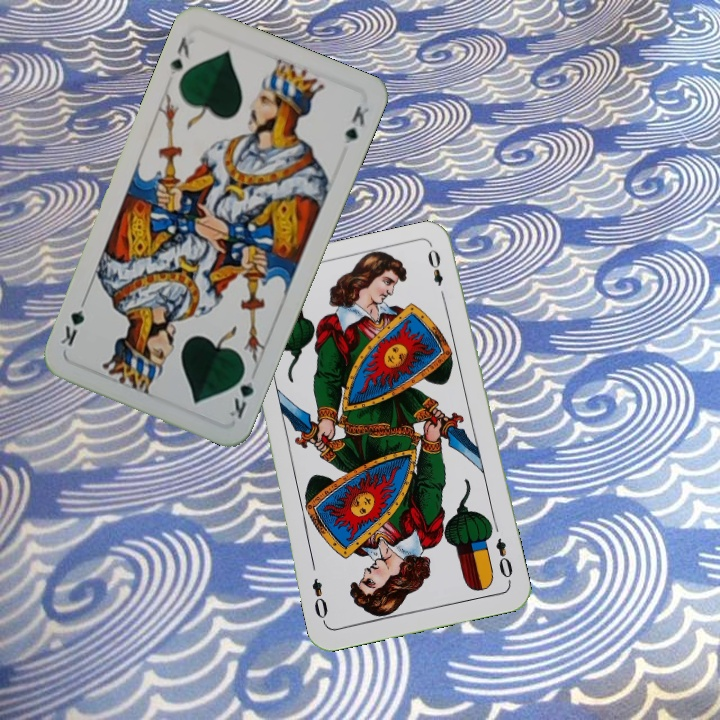EO: (492, 534, 516, 586)
GK: (224, 364, 256, 421), (165, 33, 192, 78)
